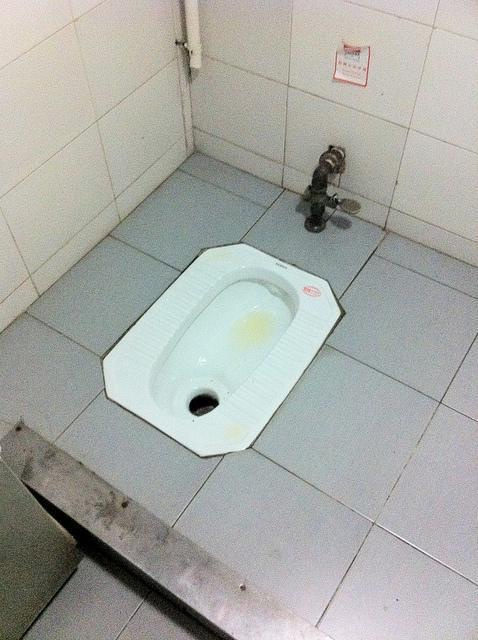Sanitario: (86, 126, 417, 474)
